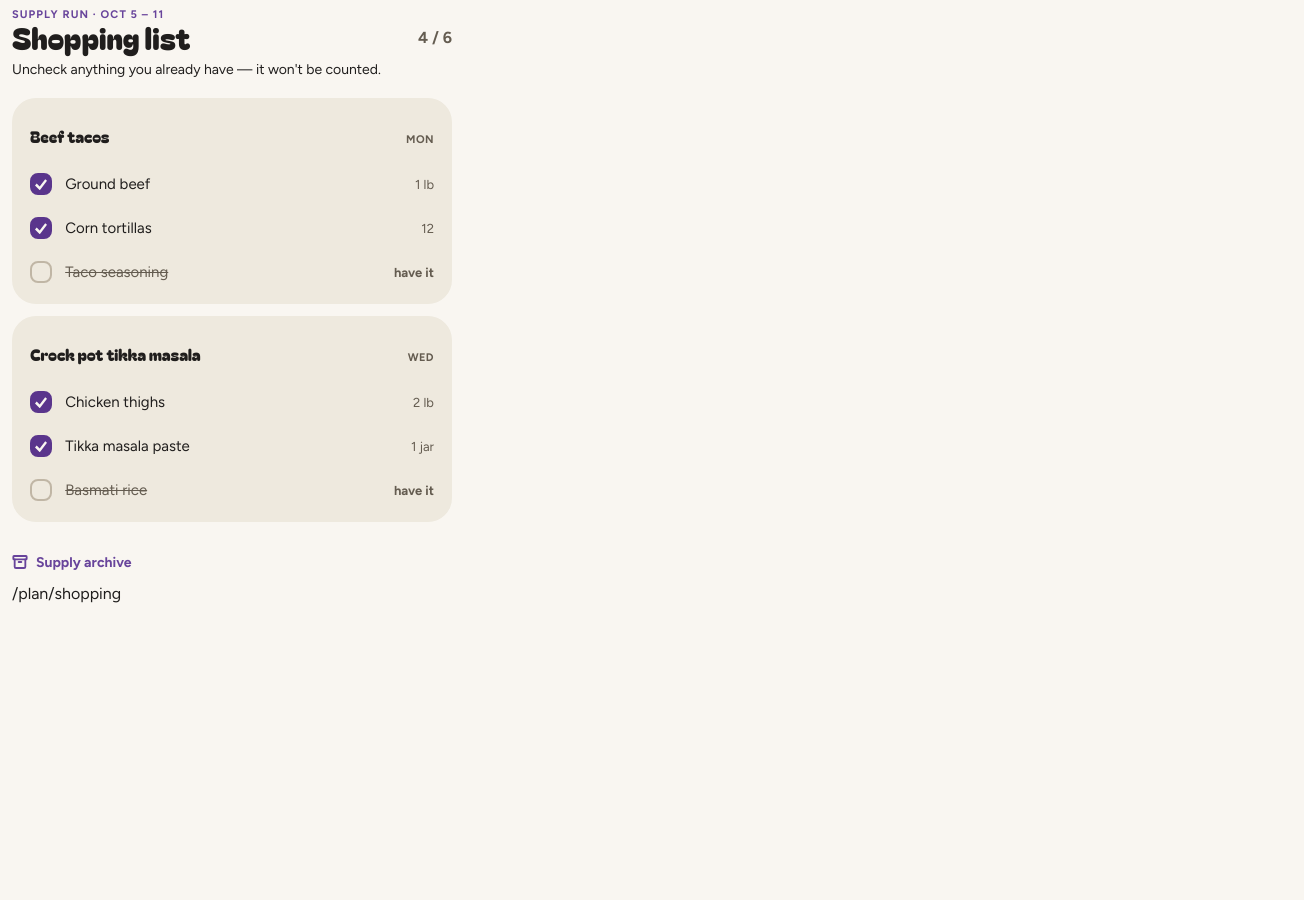
SupplyRunPage › opens each dinner's recipe, its ingredients and steps, from its name
Click the button "Crock pot tikka masala".
click(115, 354)  # box [30,332,201,376]
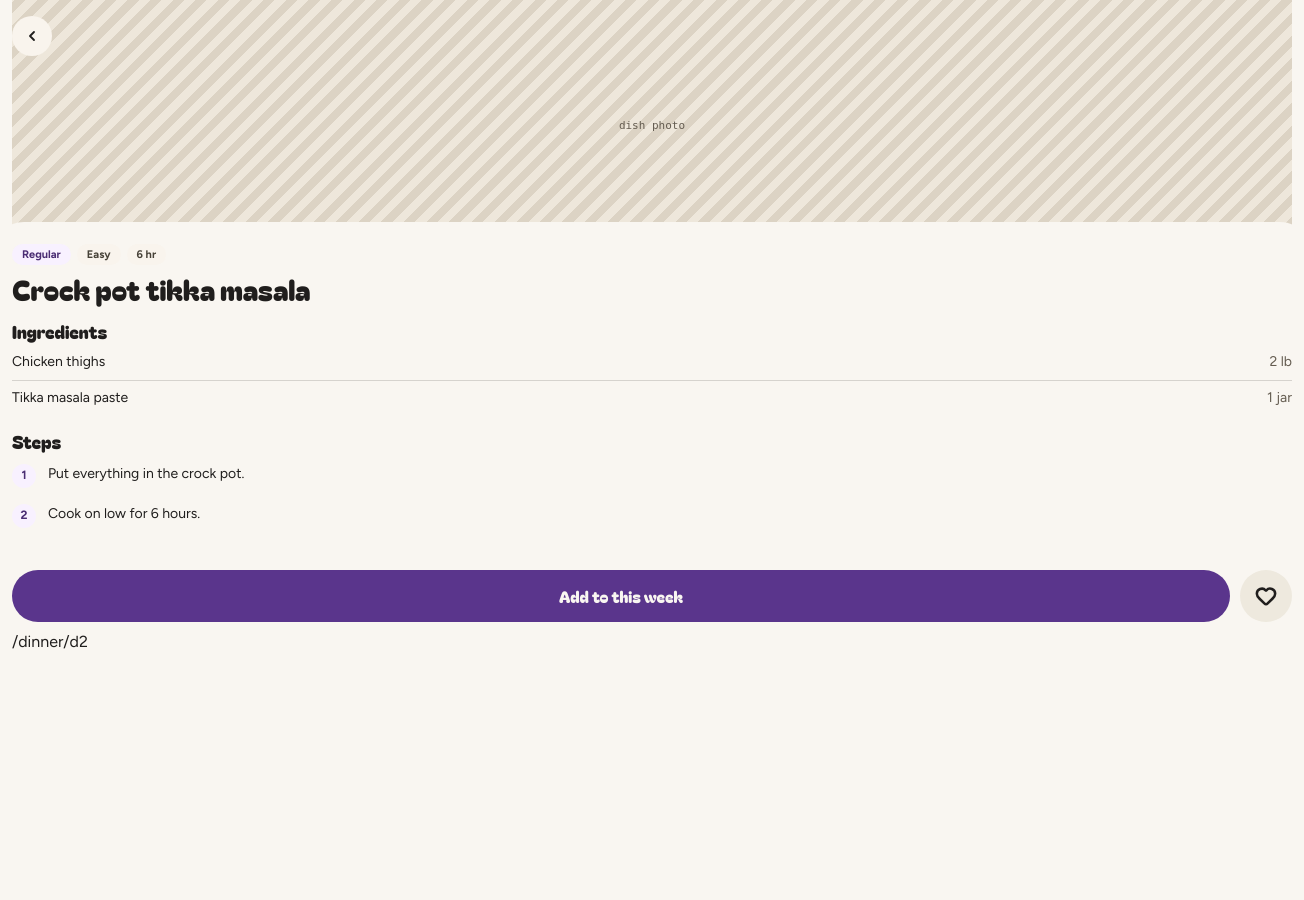
Check: the text named "Path" reads "/dinner/d2", box [12,632,88,650]
Check: the heading "Ingredients" is shown, box [12,318,107,344]
Check: the heading "Steps" is shown, box [12,428,61,454]
